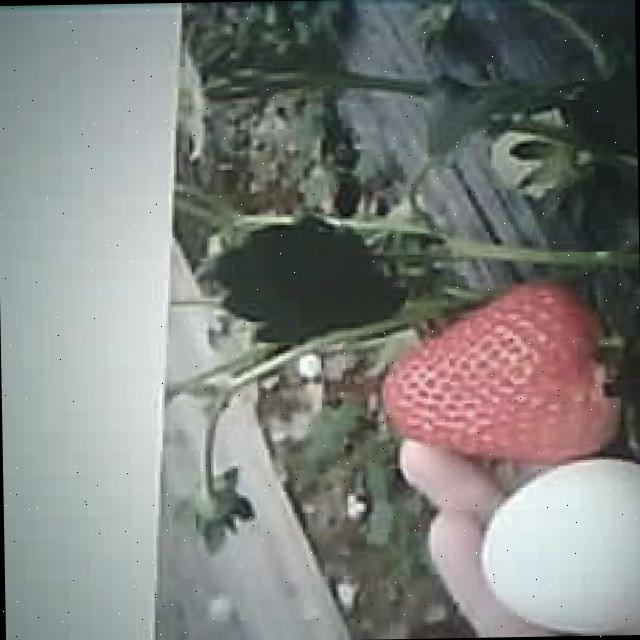strawberry: (381, 295, 620, 466), (490, 110, 570, 194)
